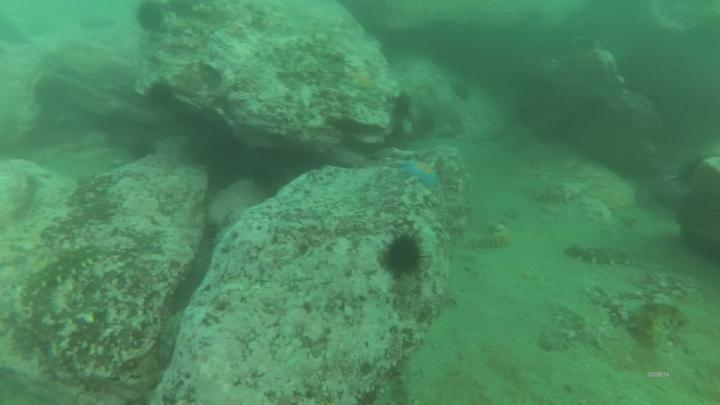echinus: (387, 230, 434, 281), (142, 77, 178, 109), (133, 2, 166, 34), (394, 90, 417, 124)
holothurian: (21, 243, 108, 309), (631, 300, 691, 352), (567, 237, 639, 272)
starfish: (398, 158, 444, 191)
